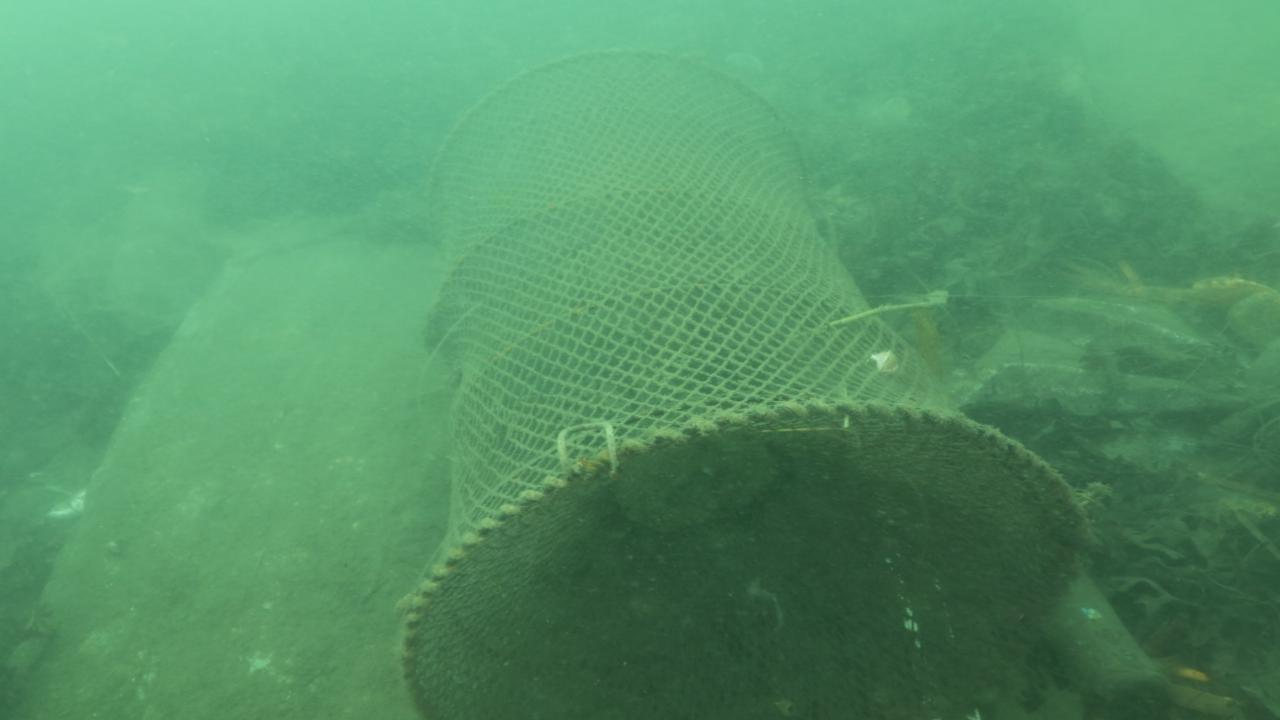spring fish trap: (392, 50, 1094, 720)
